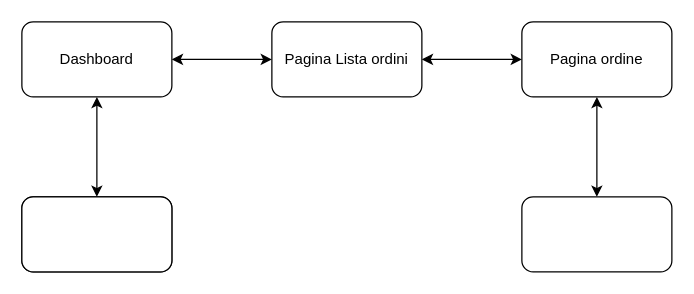
Image size: 694x294. Some labels were removed from this diagram. Each missing label, with the box of its shape:
Eliminazione ordine: (521, 196, 672, 272)
Home: (21, 196, 172, 272)
